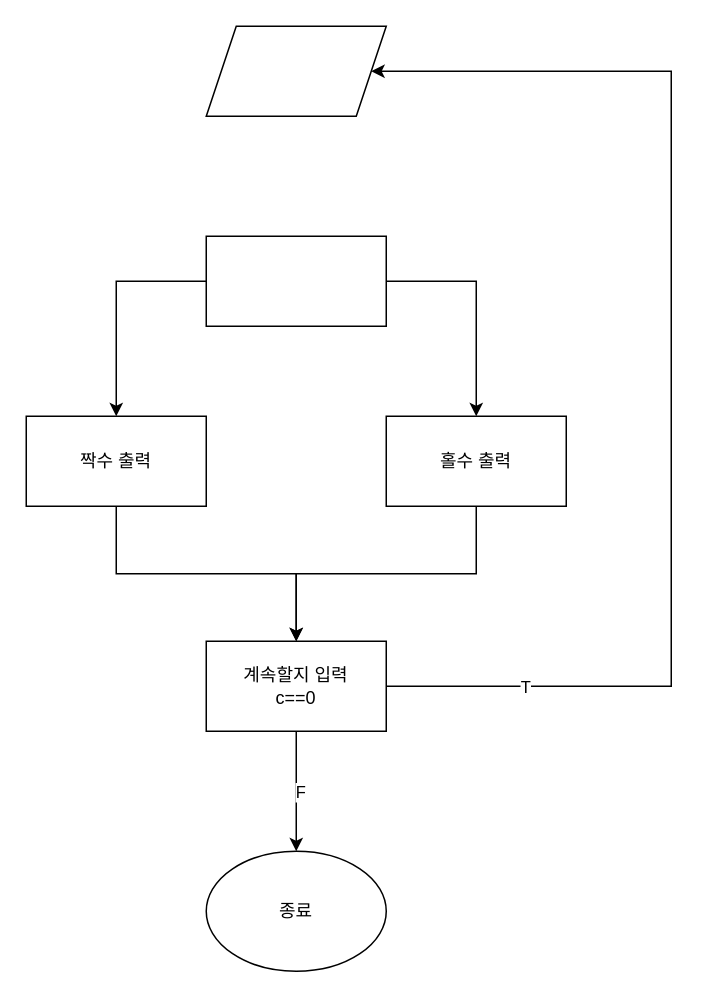
This 710x998 diagram has some shape labels left out. The box of each missing label's shape, as (x1, y1, x2, y2) in pixels:
n/2==0: (205, 235, 386, 326)
n입력 c=0;: (205, 25, 386, 116)
